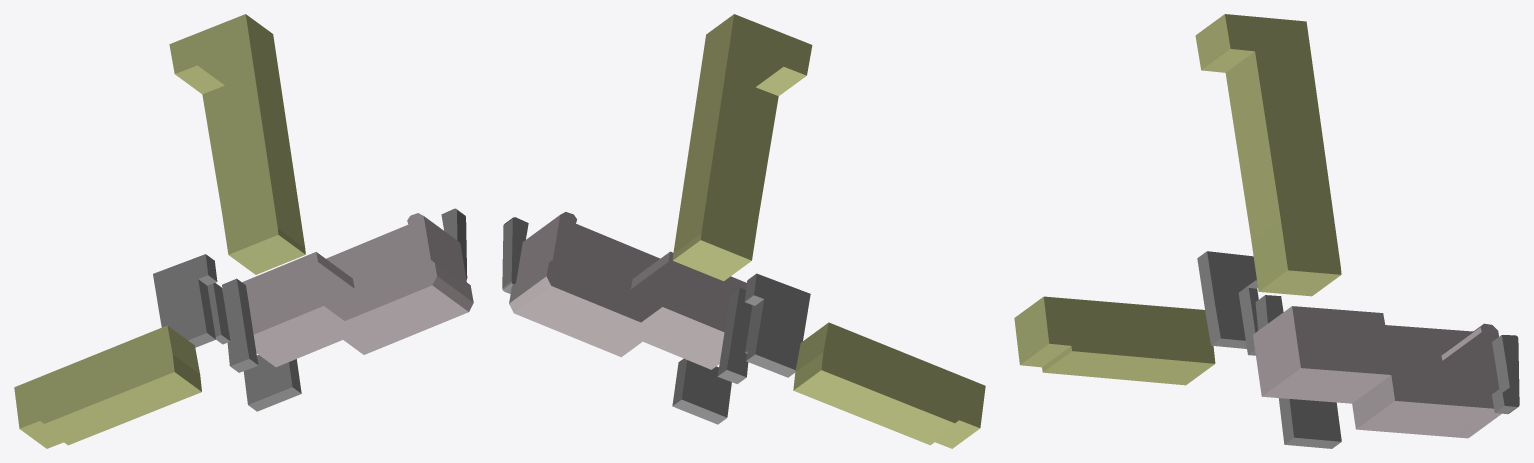
3 views of the same model, side by side, from view 1: azimuth 30°, elevation 25°; view 2: azimuth 150°, elevation 25°; view 3: azimuth 330°, elevation 25° (orthographic). The views are drawn at different scales.
Parts seen in each view (by area): view 1: 0_1_2_0_3_1_2_0; view 2: 0_1_2_0_3_1_2_0; view 3: 0_1_2_0_3_1_2_0.
Part boxes in pixels (x1,y1,x2,y2): 0_1_2_0_3_1_2_0: [14, 14, 473, 448]; 0_1_2_0_3_1_2_0: [502, 14, 985, 448]; 0_1_2_0_3_1_2_0: [1014, 14, 1519, 448].
Size of the model in its own units: 84.01 by 69.55 by 12.
